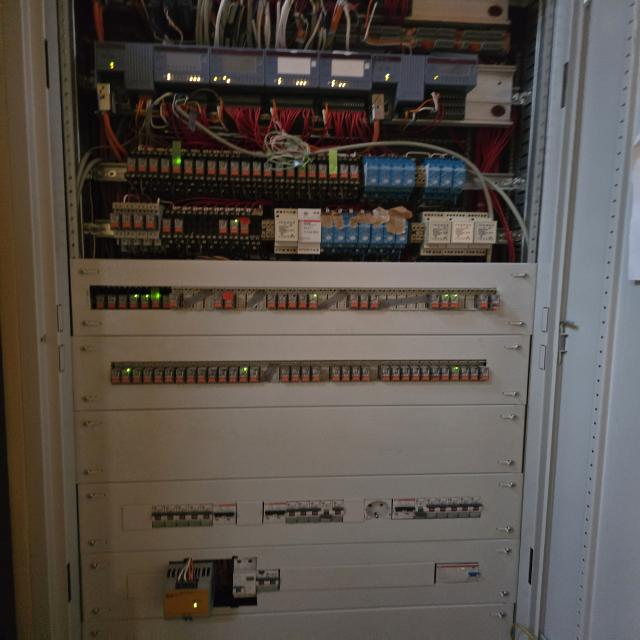Dimmer: (442, 212, 475, 255), (464, 212, 497, 255), (421, 211, 452, 255), (297, 208, 321, 254), (274, 209, 298, 254), (387, 157, 404, 192), (424, 158, 441, 193), (437, 159, 454, 194), (449, 159, 466, 194), (398, 158, 415, 192), (376, 157, 391, 192), (365, 156, 379, 192), (332, 216, 346, 248), (344, 217, 358, 247), (393, 221, 408, 249), (369, 223, 384, 248), (381, 223, 396, 248), (320, 221, 333, 248), (357, 223, 371, 248)
FI: (435, 563, 479, 584)
Leitungsschutzschalter: (176, 505, 189, 527), (188, 504, 201, 526), (320, 500, 333, 522), (331, 500, 344, 522), (213, 503, 225, 526), (152, 506, 165, 527), (200, 504, 213, 525), (414, 498, 427, 519), (165, 505, 177, 527), (225, 503, 237, 525), (286, 501, 298, 523), (309, 500, 321, 522), (392, 499, 405, 519), (263, 502, 275, 523), (275, 502, 287, 523), (448, 497, 460, 518), (256, 570, 268, 591), (298, 501, 309, 523), (403, 499, 415, 519), (426, 498, 438, 518), (437, 498, 449, 518), (459, 497, 471, 517), (470, 497, 482, 517), (268, 570, 279, 591)
Relais: (222, 290, 235, 309), (240, 217, 250, 236), (169, 293, 180, 309), (249, 366, 260, 382), (164, 367, 175, 383), (218, 367, 229, 383), (207, 367, 218, 383), (339, 163, 348, 182), (252, 161, 262, 178), (174, 218, 184, 235), (134, 213, 144, 230), (122, 213, 132, 230), (239, 366, 249, 383), (121, 367, 131, 384), (429, 294, 440, 309), (129, 294, 140, 309), (149, 157, 158, 175), (241, 160, 250, 178), (219, 159, 228, 177), (349, 293, 359, 309), (267, 293, 277, 309), (479, 365, 489, 381), (229, 367, 239, 383), (154, 367, 164, 383), (176, 367, 186, 383), (186, 367, 196, 383), (197, 367, 207, 383), (138, 156, 147, 173), (350, 163, 359, 180), (230, 160, 239, 177), (207, 159, 216, 176), (219, 219, 228, 236), (110, 213, 119, 230), (308, 292, 317, 309), (301, 365, 310, 382), (146, 215, 156, 230), (359, 294, 369, 309), (380, 366, 390, 381), (184, 159, 193, 175), (490, 294, 499, 310), (278, 293, 287, 309), (151, 293, 160, 309), (311, 366, 320, 382), (280, 366, 289, 382), (291, 366, 300, 382), (111, 368, 120, 384), (143, 367, 152, 383), (161, 158, 169, 175), (172, 158, 180, 175), (127, 157, 136, 172), (329, 164, 338, 179), (479, 294, 488, 309), (441, 294, 450, 309), (288, 294, 297, 309), (96, 294, 105, 309), (107, 294, 116, 309), (441, 366, 450, 381), (431, 366, 440, 381), (391, 366, 400, 381), (401, 366, 410, 381), (411, 366, 420, 381), (352, 366, 361, 381), (132, 368, 141, 383), (308, 163, 316, 179), (230, 219, 238, 235), (450, 293, 458, 309), (299, 293, 307, 309), (370, 295, 379, 309), (264, 163, 272, 178), (196, 160, 204, 175), (214, 294, 222, 309), (119, 294, 127, 309), (470, 366, 478, 381), (461, 366, 469, 381), (422, 366, 430, 381), (362, 366, 370, 381), (342, 366, 350, 381), (332, 366, 340, 381), (275, 165, 284, 178), (319, 164, 327, 178), (163, 219, 171, 233), (141, 294, 149, 308), (162, 295, 170, 309), (451, 366, 459, 380), (286, 167, 295, 178), (298, 167, 306, 179)
SPS_System_Steuerungskomponente: (153, 44, 210, 84), (209, 46, 265, 86), (264, 49, 320, 89), (320, 52, 373, 90), (95, 41, 153, 72), (424, 57, 478, 86), (373, 54, 426, 83)
Verbinder: (261, 220, 275, 241), (410, 223, 424, 243), (413, 167, 427, 187)
